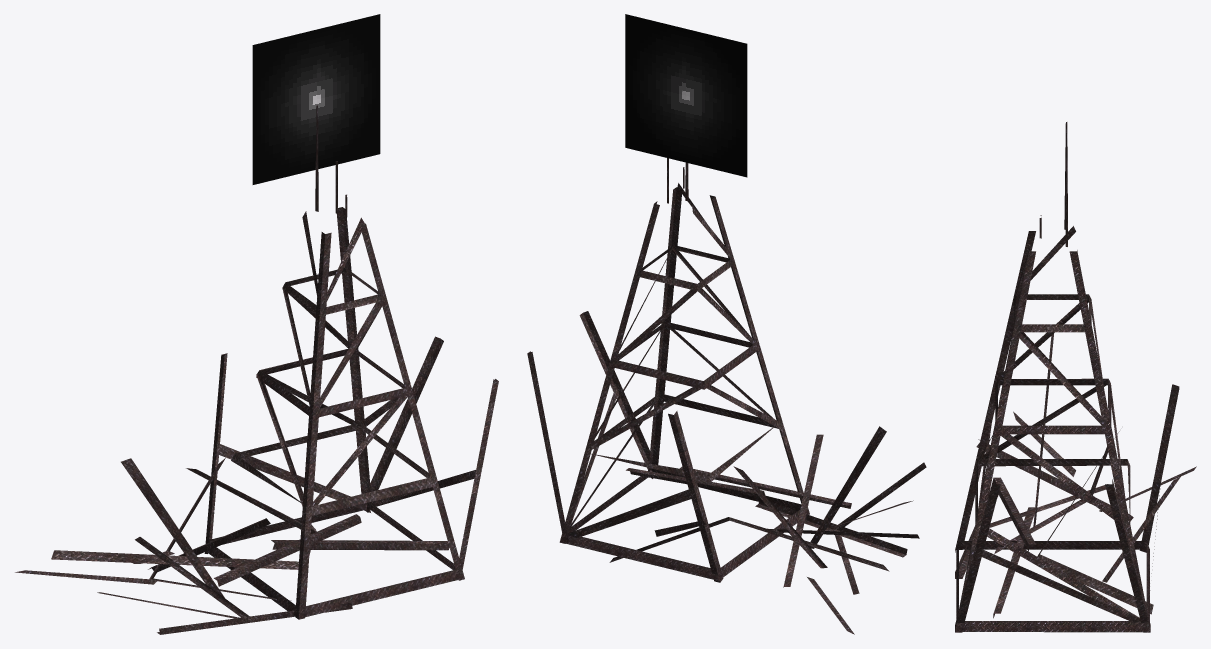
File: RdioTwrX.glb
The picture shows the model from 3 angles, left to right: view 1: azimuth 30°, elevation 25°; view 2: azimuth 150°, elevation 25°; view 3: azimuth 270°, elevation 25°; orthographic projection. The views are drawn at different scales.
Visible parts, largest first — view 1: _rdiotwrx; view 2: _rdiotwrx; view 3: _rdiotwrx.
Part boxes in pixels (<box>): _rdiotwrx: <box>15,14,498,634</box>; _rdiotwrx: <box>527,14,926,634</box>; _rdiotwrx: <box>955,122,1196,632</box>.
Bounding box in the file's own units: 8.76 × 11.73 × 4.68.
2 materials, 2 textured.
